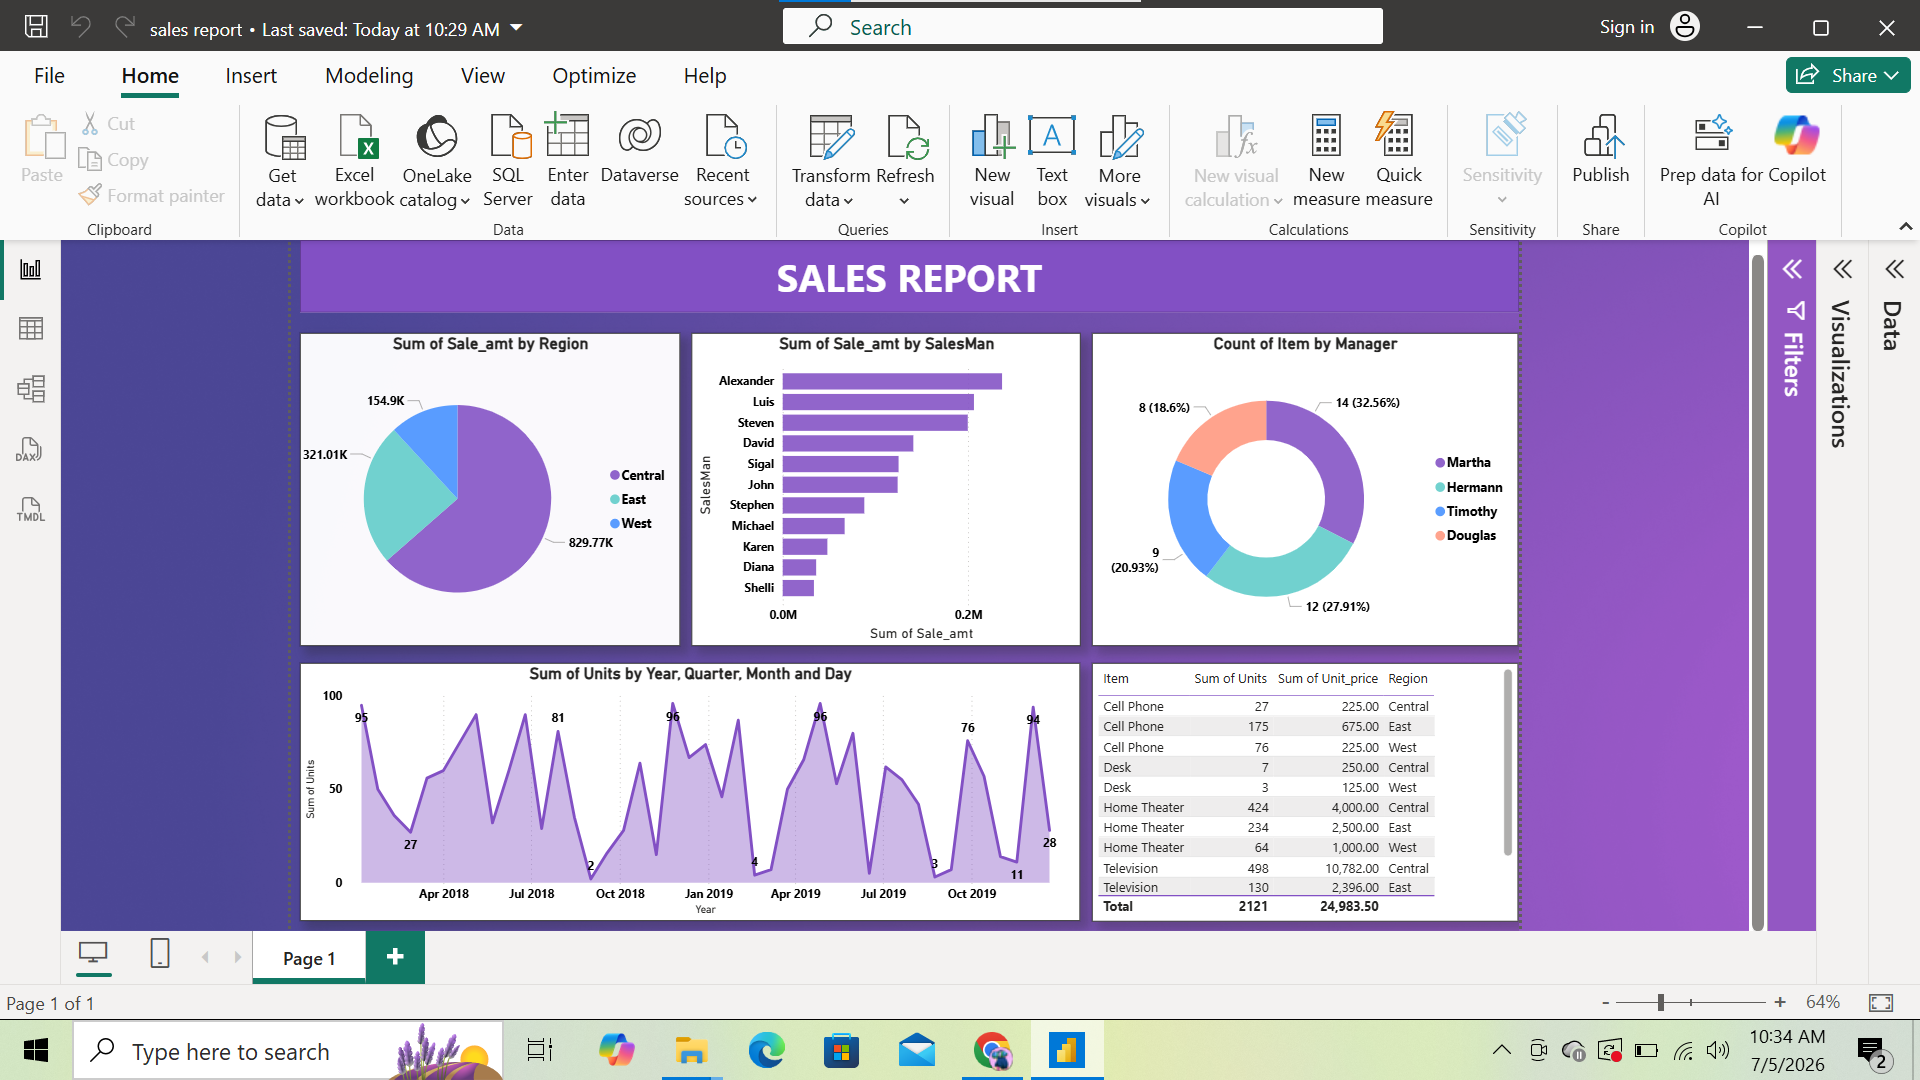

The dashboard page shown, as its layout file describes it:
{"tool":"powerbi","page":{"name":"Page 1","canvas":[1280,720],"ordinal":0},"visuals":[{"type":"shape","box":[9.4,0,1269.9,75.6],"z":0},{"type":"pieChart","fields":{"Category":["SaleData.Region"],"Y":["Sum(SaleData.Sale_amt)"]},"box":[9.5,97,396.1,326.1],"z":1},{"type":"clusteredBarChart","fields":{"Category":["SaleData.SalesMan"],"Y":["Sum(SaleData.Sale_amt)"]},"box":[416.7,97,405.6,326.1],"z":2},{"type":"donutChart","fields":{"Category":["SaleData.Manager"],"Y":["CountNonNull(SaleData.Item)"]},"box":[835.1,97,443.8,326.1],"z":3},{"type":"lineChart","fields":{"Y":["Sum(SaleData.Units)"],"Category":["SaleData.OrderDate.Variation.Date Hierarchy.Year","SaleData.OrderDate.Variation.Date Hierarchy.Quarter","SaleData.OrderDate.Variation.Date Hierarchy.Month","SaleData.OrderDate.Variation.Date Hierarchy.Day"]},"box":[9.5,440.6,812.8,268.8],"z":4},{"type":"tableEx","fields":{"Values":["SaleData.Item","Sum(SaleData.Units)","Sum(SaleData.Unit_price)","SaleData.Region"]},"box":[835,441,444,269],"z":5}]}

Visuals, with their boxes on the page's 1280x720 design canvas (x1, y1, x2, y2). These are canvas units, not pixel positions in the 1920x1080 screenshot, which may show the page scaled, cropped or inside an application window:
shape: [x1=9, y1=0, x2=1279, y2=76]
pieChart - SaleData.Region x Sum(SaleData.Sale_amt): [x1=10, y1=97, x2=406, y2=423]
clusteredBarChart - SaleData.SalesMan x Sum(SaleData.Sale_amt): [x1=417, y1=97, x2=822, y2=423]
donutChart - SaleData.Manager x CountNonNull(SaleData.Item): [x1=835, y1=97, x2=1279, y2=423]
lineChart - Sum(SaleData.Units) x SaleData.OrderDate.Variation.Date Hierarchy.Year: [x1=10, y1=441, x2=822, y2=709]
tableEx - SaleData.Item x Sum(SaleData.Units): [x1=835, y1=441, x2=1279, y2=710]
